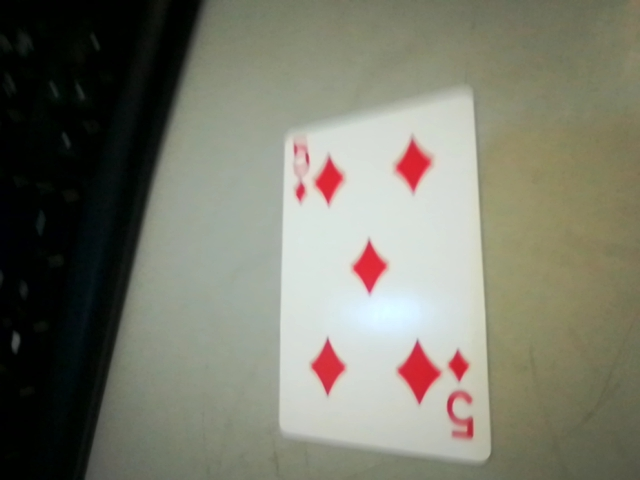fk 5: (436, 343, 484, 455)
